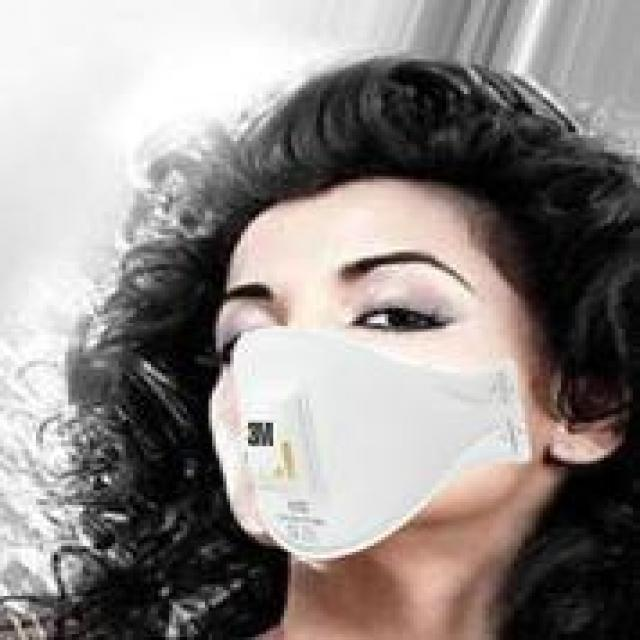mask: (140, 41, 640, 596)
